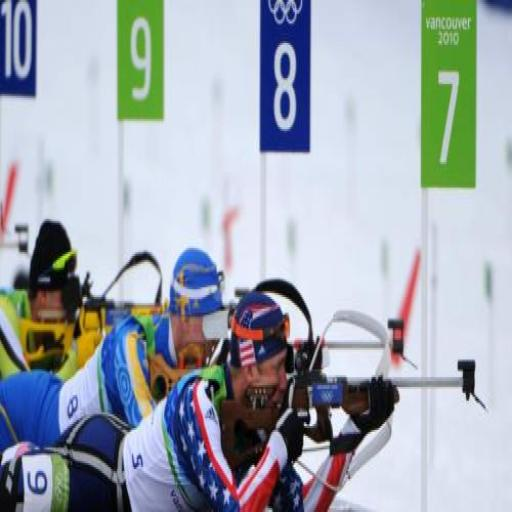shooting: (22, 346, 458, 512), (7, 219, 224, 460), (0, 244, 232, 461)
